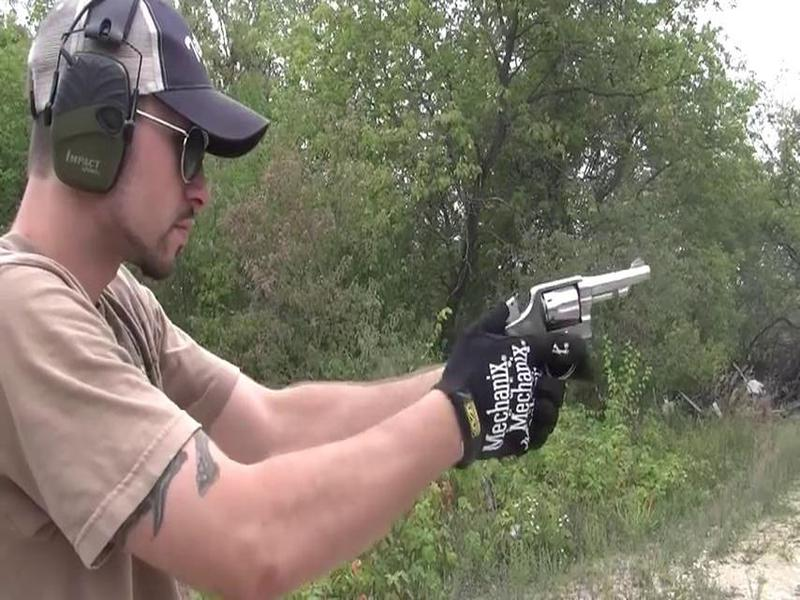Revolver: (493, 251, 657, 364)
